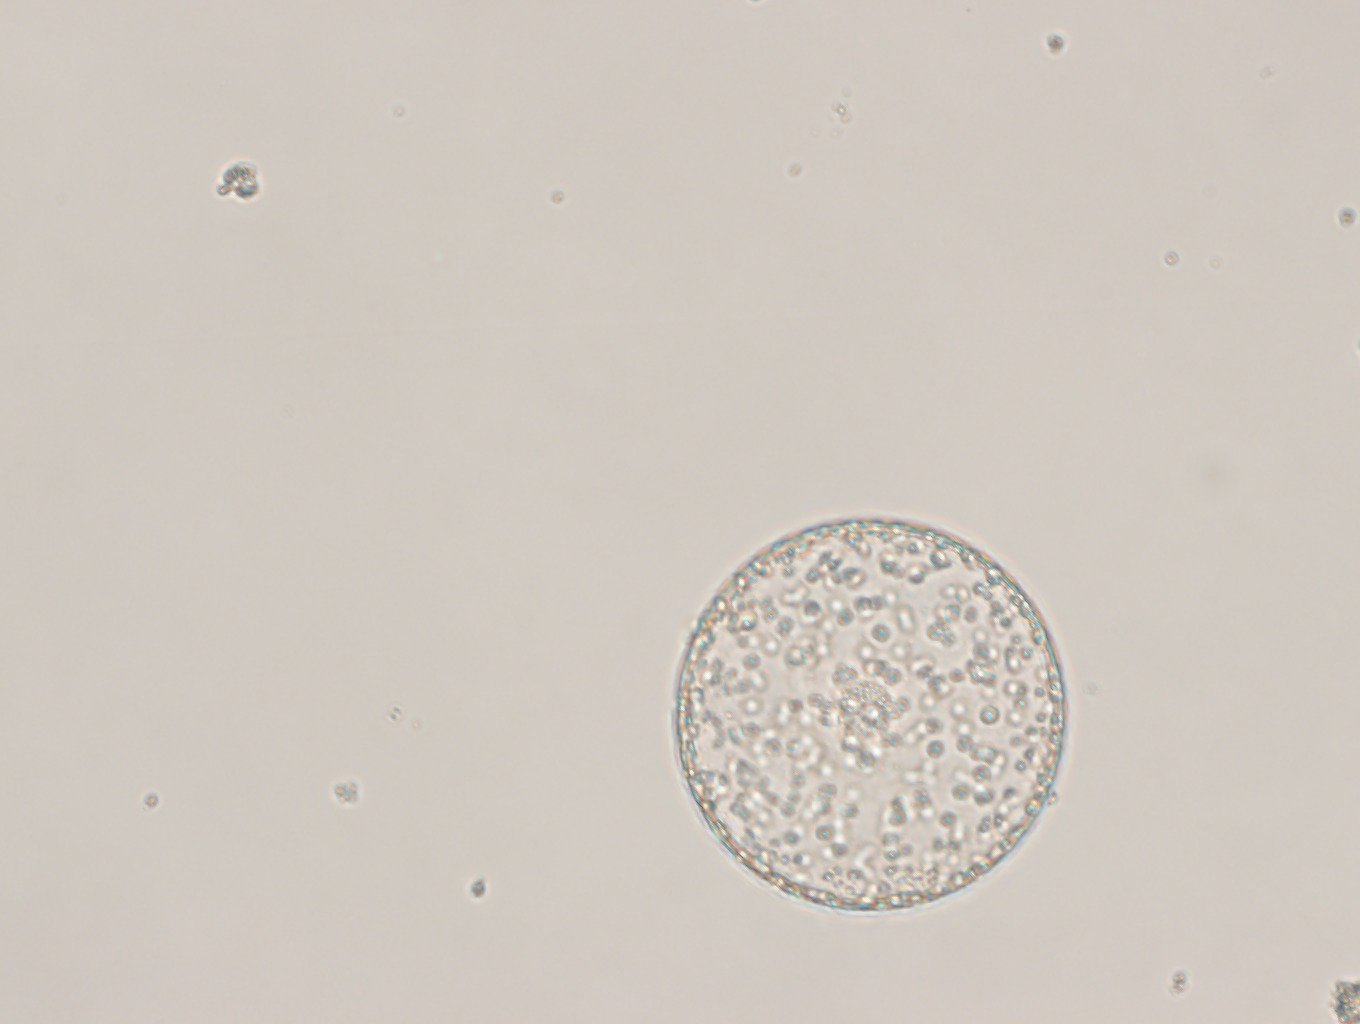coscinodiscus: (665, 511, 1074, 918)
